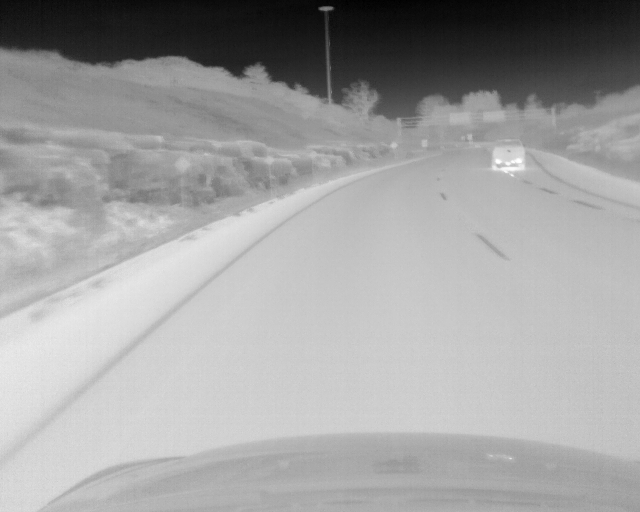car: (491, 139, 527, 170)
